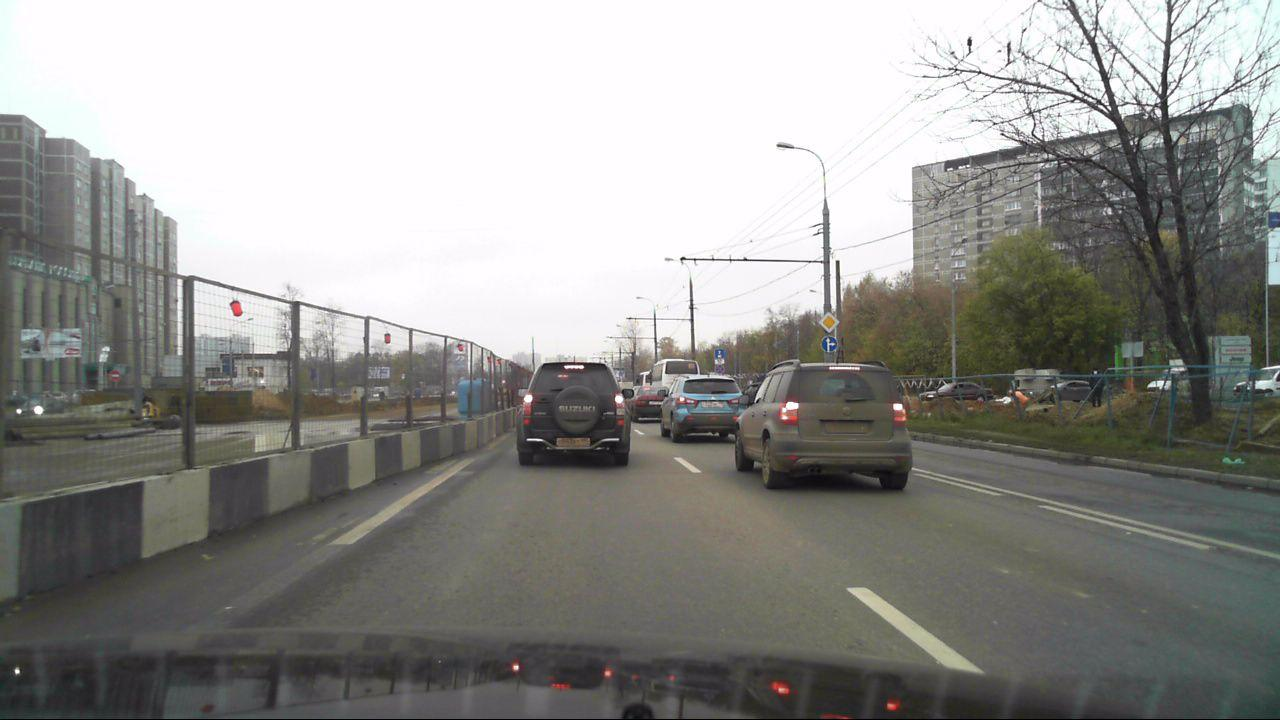road_sign: (818, 311, 840, 333), (821, 335, 838, 353)
